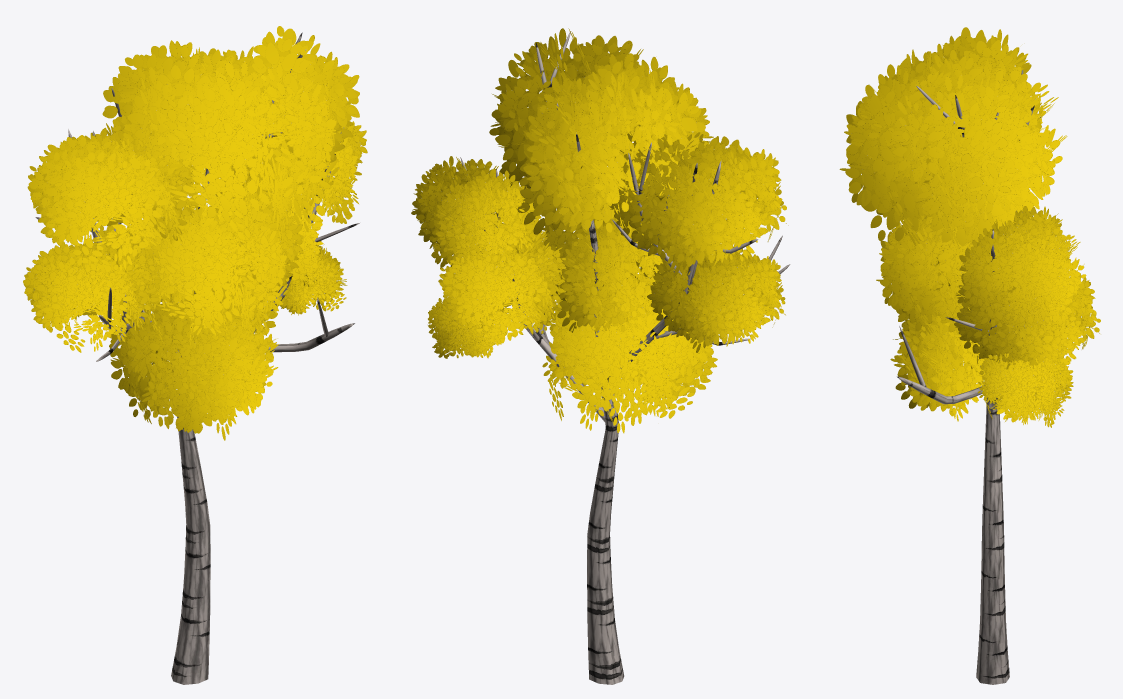
Rendered from BirchTree_3.gltf.
The picture shows the model from 3 angles, left to right: view 1: azimuth 30°, elevation 25°; view 2: azimuth 150°, elevation 25°; view 3: azimuth 270°, elevation 25°; orthographic projection. The views are drawn at different scales.
Parts seen in each view (by area): view 1: BirchTree_3; view 2: BirchTree_3; view 3: BirchTree_3.
Part boxes in pixels (x1=…): BirchTree_3: x1=23, y1=26, x2=367, y2=684; BirchTree_3: x1=411, y1=28, x2=790, y2=684; BirchTree_3: x1=839, y1=27, x2=1100, y2=684.
Bounding box in the file's own units: 3.43 × 5.75 × 2.27.
Materials: 2 (2 with a texture image).
